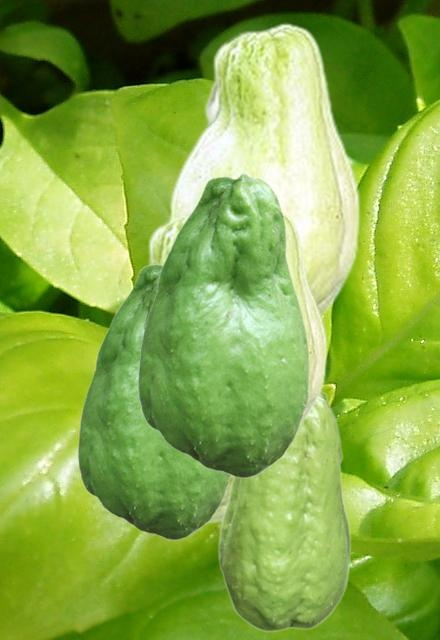sayote: (168, 22, 359, 320), (137, 172, 309, 477), (77, 261, 232, 539), (217, 391, 351, 632), (145, 210, 229, 523), (284, 210, 326, 428)
